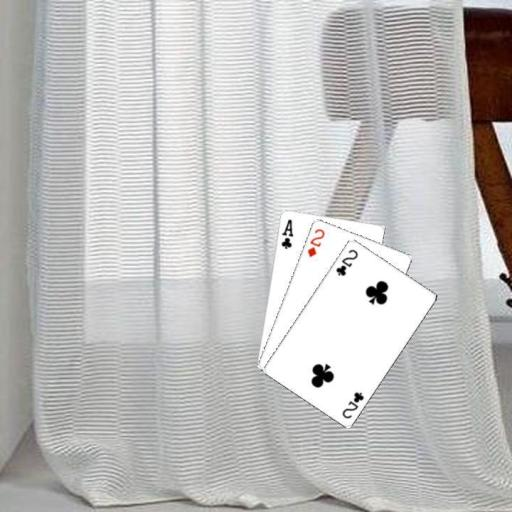2C: (339, 388, 366, 420), (333, 246, 360, 277)
2D: (304, 226, 326, 258)
AC: (278, 216, 294, 250)
